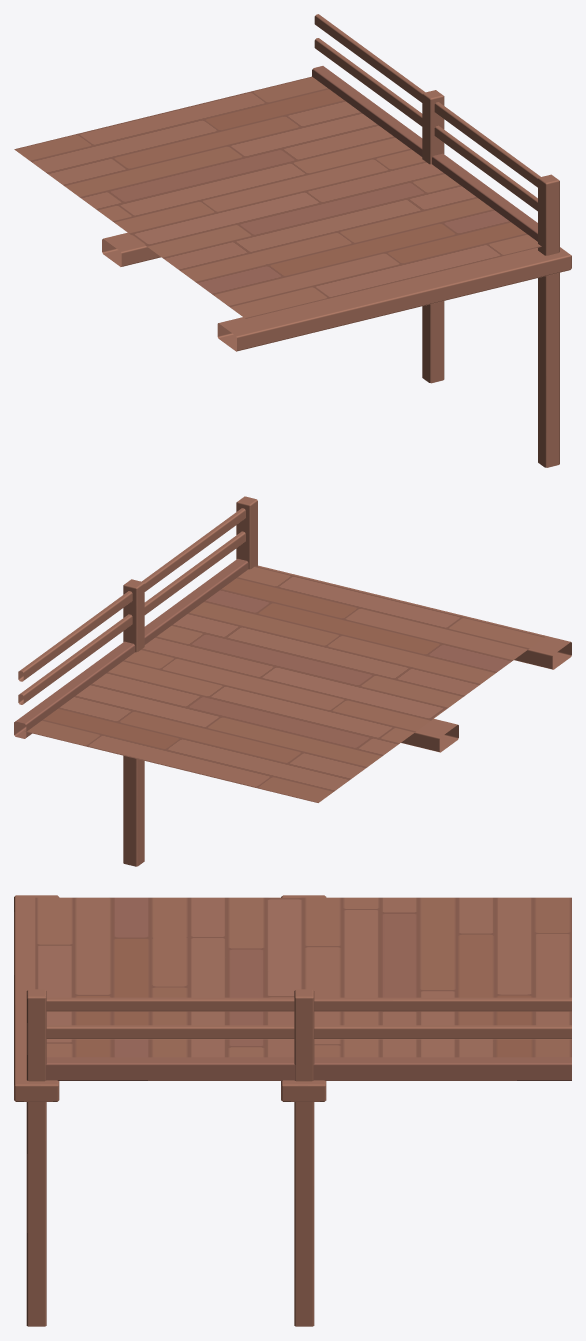
Rendered from BoardWalkSide.fbx.
3 views of the same model, one above another, from view 1: azimuth 30°, elevation 25°; view 2: azimuth 150°, elevation 25°; view 3: azimuth 270°, elevation 25° (orthographic). The views are drawn at different scales.
Visible parts, largest first — view 1: BoardWalkSide; view 2: BoardWalkSide; view 3: BoardWalkSide.
Boxes of the visible parts, x1=… form: BoardWalkSide: x1=14, y1=14, x2=571, y2=467; BoardWalkSide: x1=14, y1=496, x2=571, y2=866; BoardWalkSide: x1=14, y1=895, x2=571, y2=1326.
Bounding box in the file's own units: 669 × 542 × 832.
